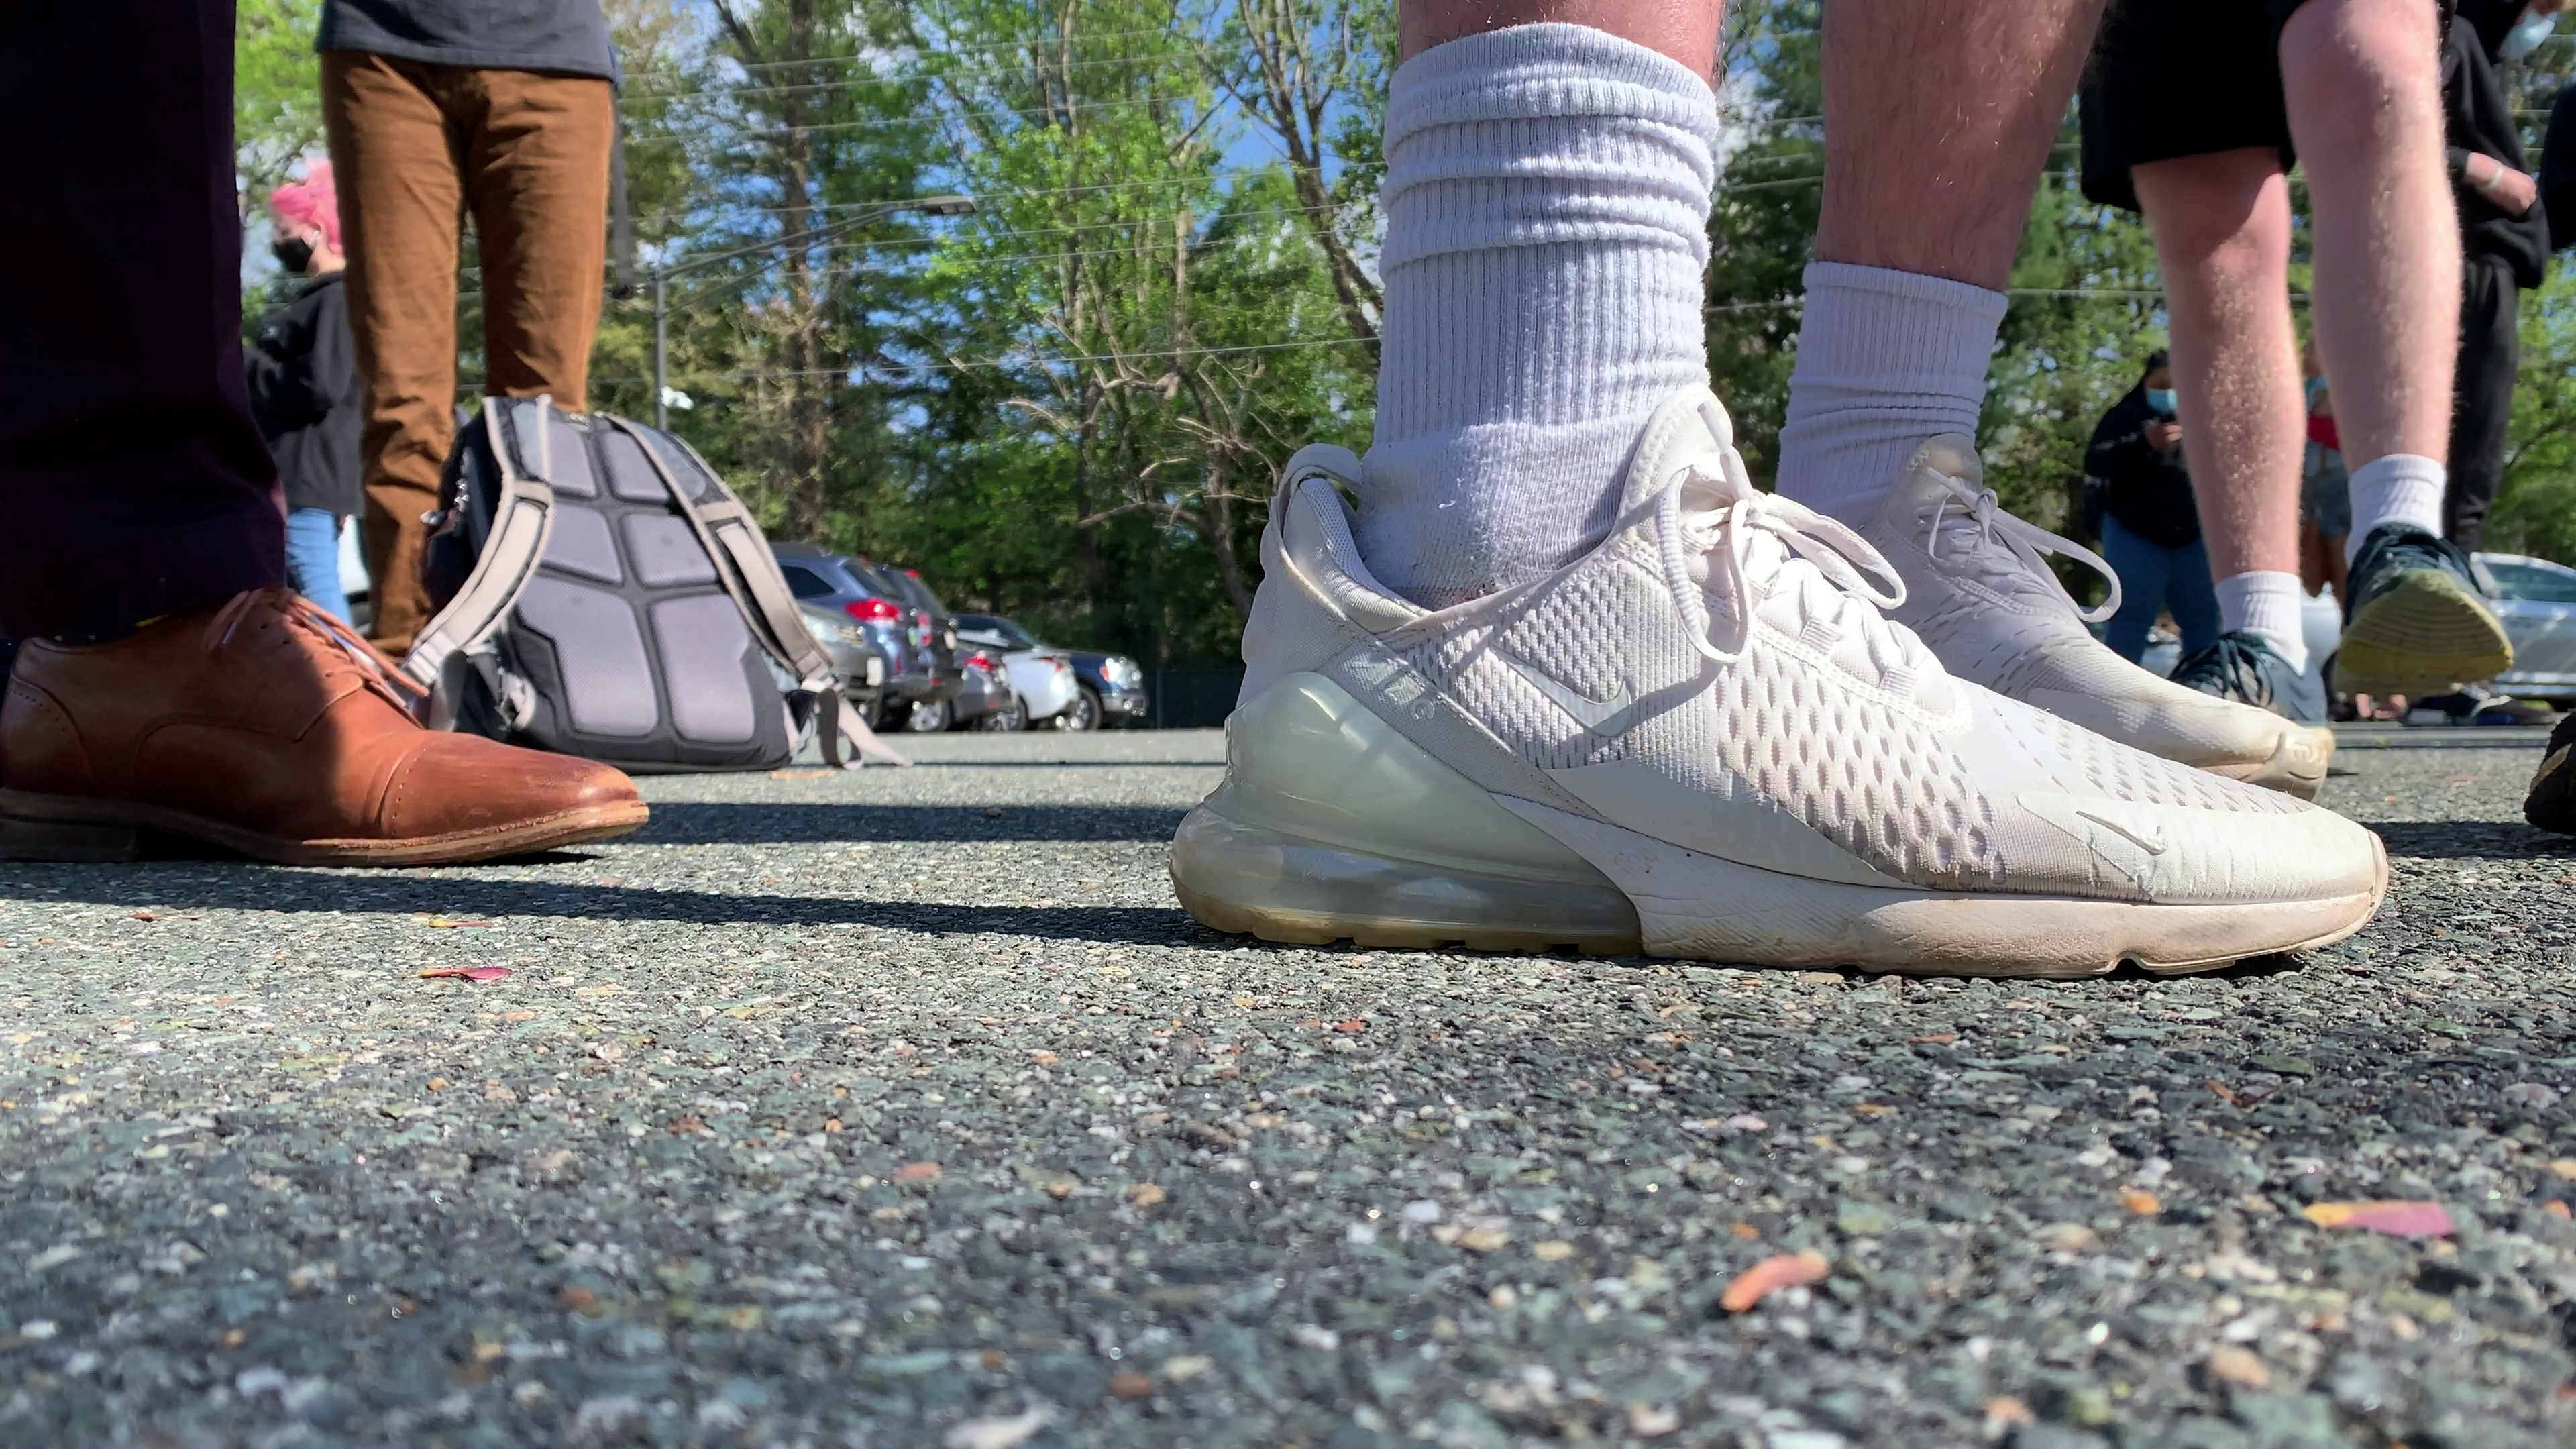shoe: (1169, 382, 2388, 982), (1633, 432, 2328, 809), (0, 587, 649, 860), (2334, 518, 2512, 699)
